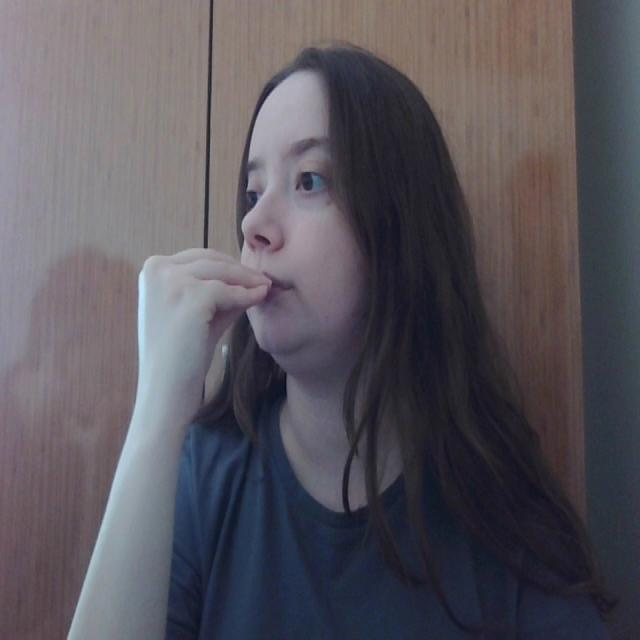Yemek: (135, 244, 300, 319)
